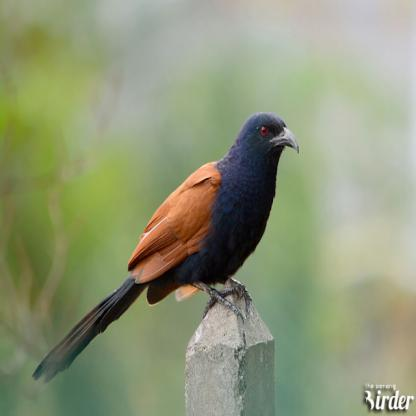Burung: (30, 111, 298, 381)
